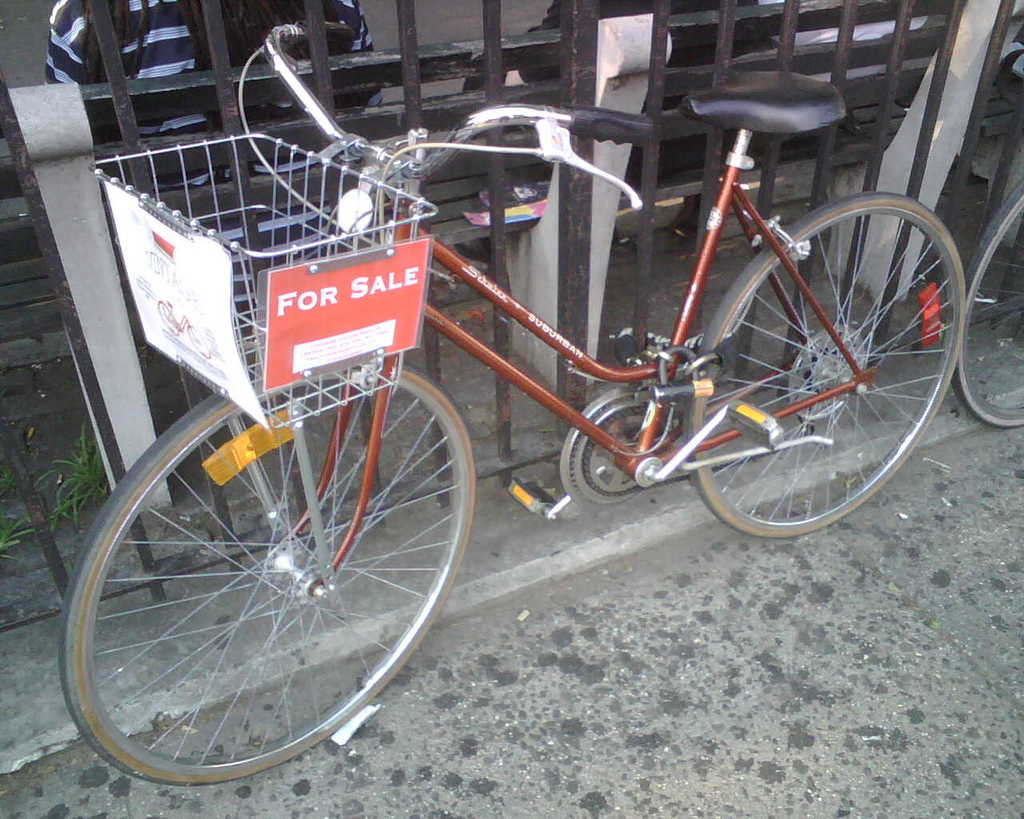Bike_toward: (61, 72, 686, 591)
